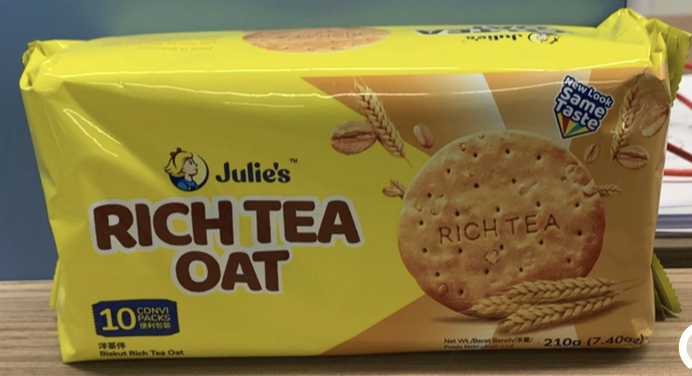cookies_150g: (65, 83, 645, 350)
